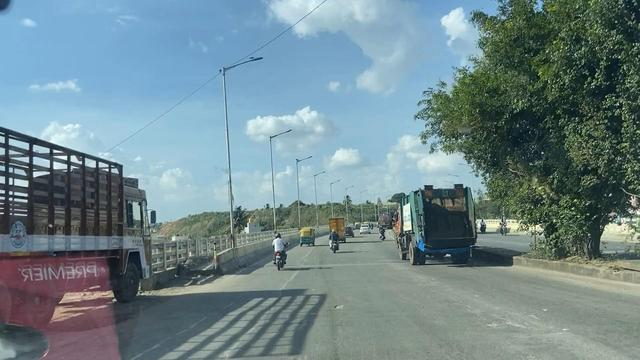HMV: (1, 111, 171, 339), (381, 163, 498, 270)
RoadDamages: (323, 292, 352, 319)
